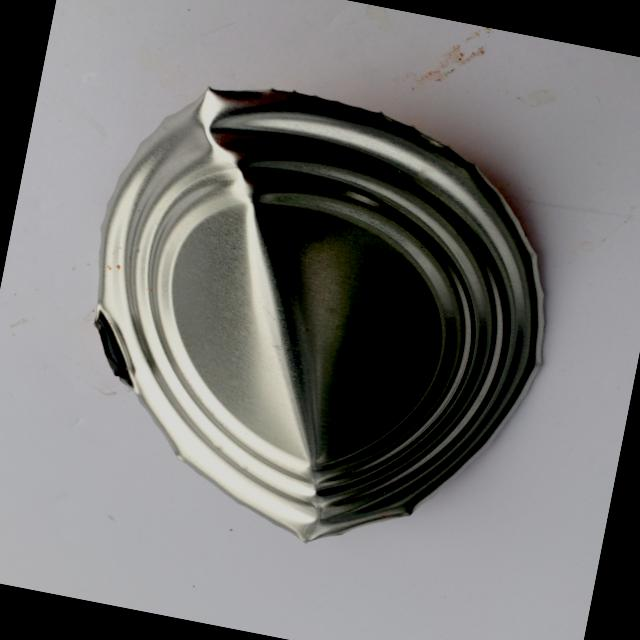Metal: (41, 50, 590, 608)
